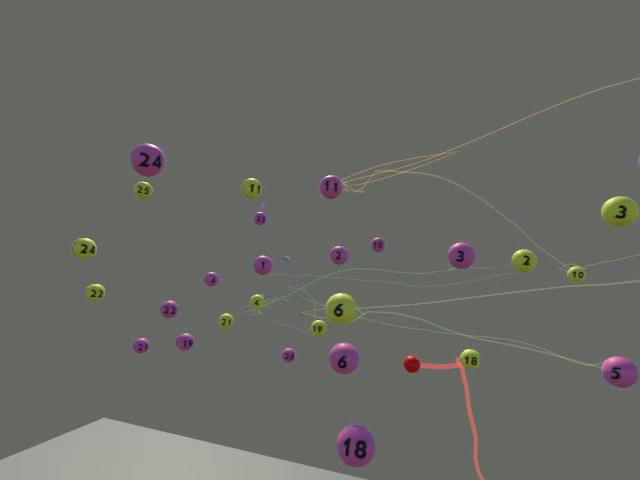ball_01_pink: (253, 255, 272, 274)
ball_02_pink: (329, 246, 348, 264)
ball_03_pink: (447, 241, 475, 269)
ball_03_yellow: (601, 196, 638, 227)
ball_04_pink: (204, 271, 218, 286)
ball_04_yellow: (249, 294, 264, 309)
ball_05_pink: (602, 356, 637, 388)
ball_06_pink: (328, 342, 359, 374)
ball_06_yellow: (325, 292, 356, 325)
ball_10_pink: (370, 236, 384, 252)
ball_10_yellow: (566, 265, 585, 282)
ball_11_pink: (318, 174, 342, 198)
ball_11_yellow: (240, 176, 261, 198)
ball_18_pink: (336, 423, 375, 467)
ball_18_yellow: (459, 348, 480, 368)
ball_19_pink: (175, 333, 193, 350)
ball_19_yellow: (310, 319, 326, 336)
ball_20_pink: (281, 348, 295, 362)
ball_21_pink: (132, 337, 149, 353)
ball_21_yellow: (217, 312, 233, 329)
ball_22_pink: (159, 300, 178, 318)
ball_22_yellow: (510, 248, 536, 272), (85, 283, 105, 301)
ball_24_pink: (130, 143, 165, 176)
ball_24_yellow: (71, 237, 97, 259)
ball_25_pink: (253, 211, 266, 224)
ball_25_yellow: (132, 181, 152, 199)
user_cursor: (402, 355, 420, 373)
